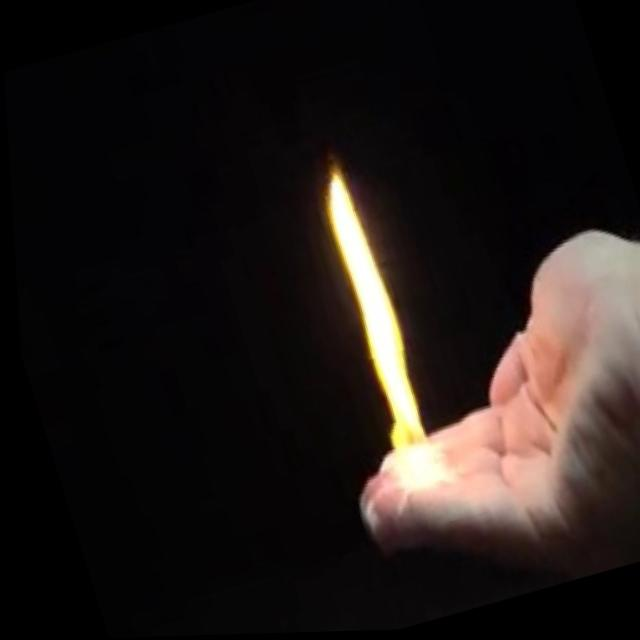Fire: (327, 258, 454, 512)
